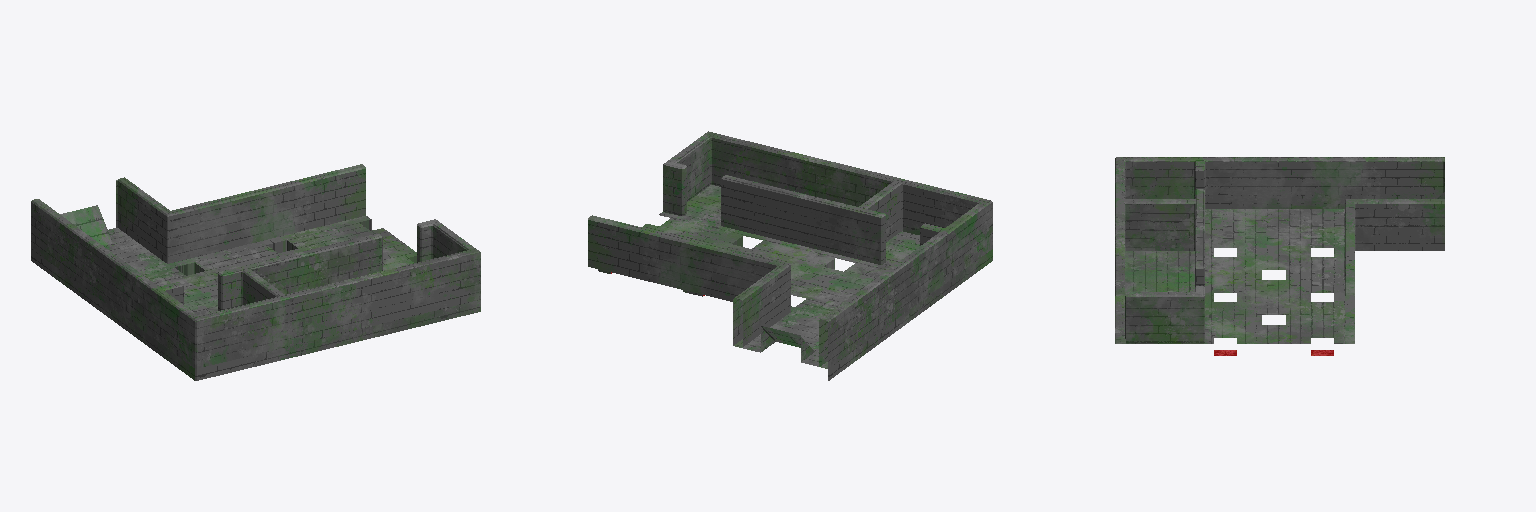
The picture shows the model from 3 angles: view 1: azimuth 30°, elevation 25°; view 2: azimuth 150°, elevation 25°; view 3: azimuth 270°, elevation 25°; orthographic projection.
Visible parts, largest first — view 1: Cube.162, Cube.158, Cube.159; view 2: Cube.162, Cube.158, Cube.159; view 3: Cube.162, Cube.158, Cube.159.
Boxes of the visible parts, box(x1,y1,x2,y2) form: Cube.162: box(31, 199, 480, 368); Cube.158: box(31, 205, 480, 380); Cube.159: box(116, 164, 365, 263); Cube.162: box(663, 131, 992, 368); Cube.158: box(598, 185, 992, 380); Cube.159: box(588, 215, 790, 347); Cube.162: box(1115, 157, 1444, 343); Cube.158: box(1120, 192, 1444, 355); Cube.159: box(1345, 199, 1444, 343).
Bounding box in the file's own units: 99 × 20 × 99.
3 materials, 2 textured.